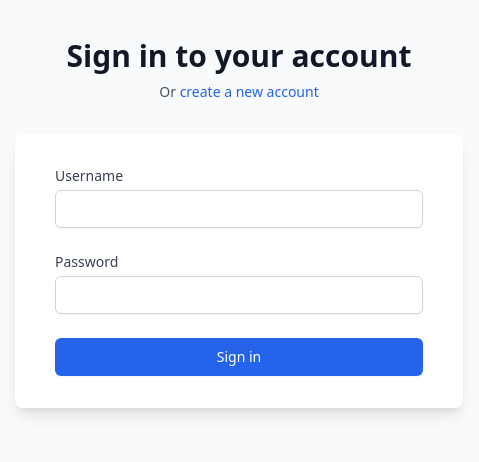
it: LoginPage › should show validation errors for empty fields
Click the button "Sign in". click: {"x": 239, "y": 357}
box: x1=55 y1=338 x2=423 y2=376
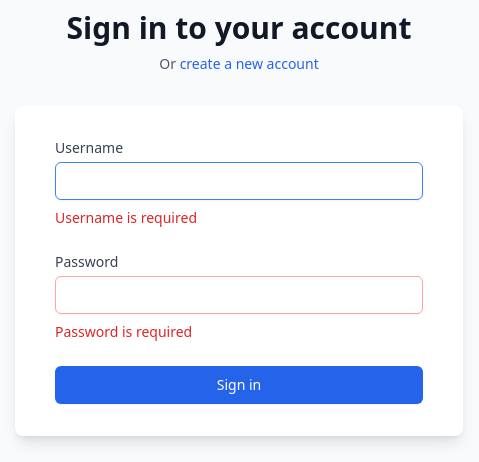
Expected: the text "Username is required" is shown, x1=55 y1=208 x2=197 y2=227
Expected: the text "Password is required" is shown, x1=55 y1=322 x2=192 y2=341
